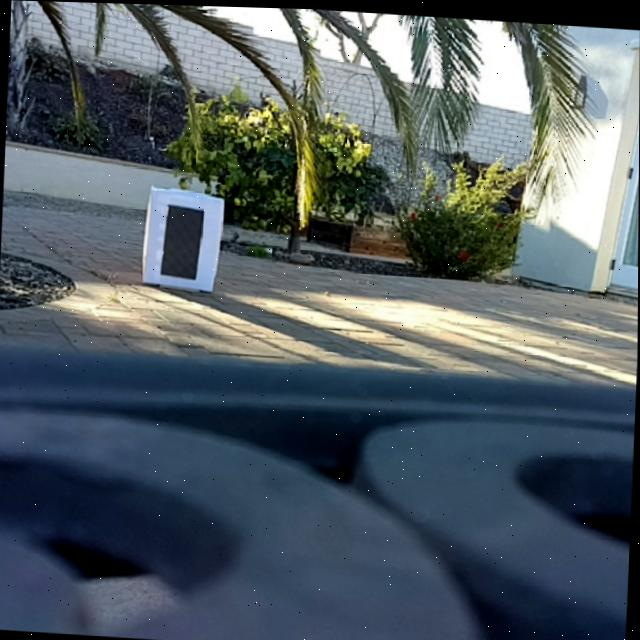led: (163, 205, 204, 282)
